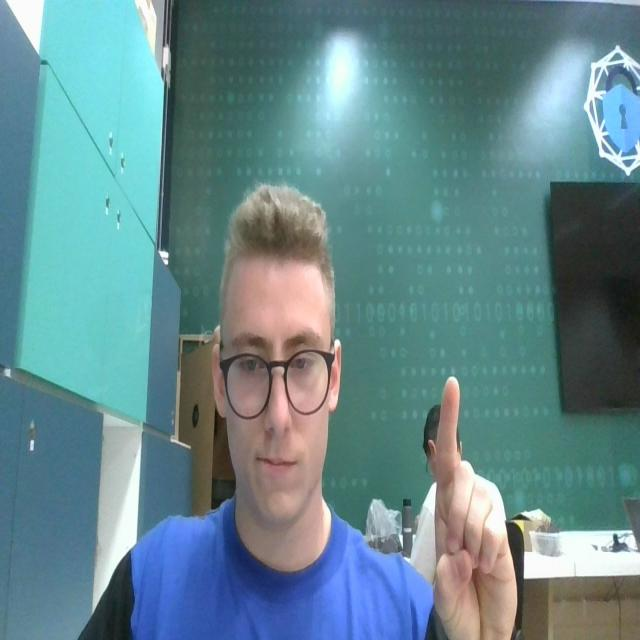D2: (426, 375, 519, 640)
